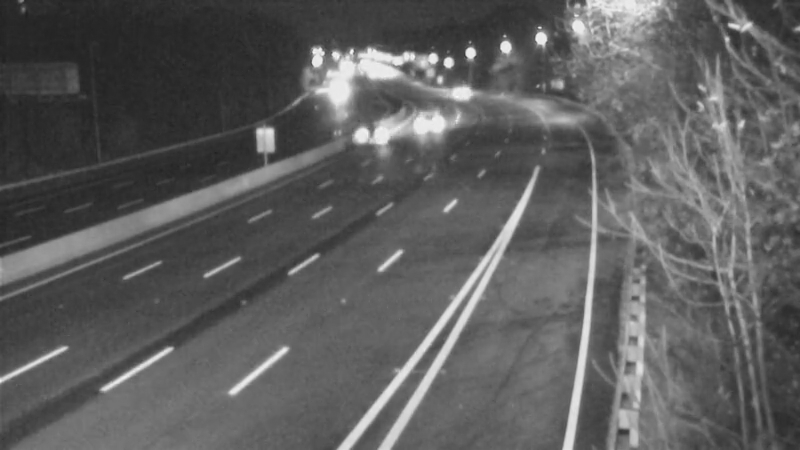vehicle: (442, 64, 492, 114), (399, 92, 449, 142), (359, 104, 409, 154)
